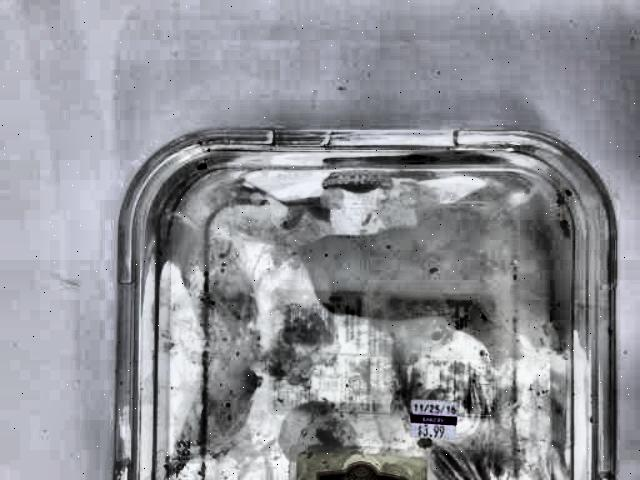Plastic: (94, 121, 630, 480)
